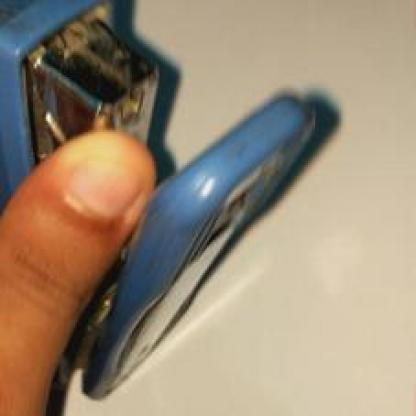stapler: (0, 0, 330, 414)
